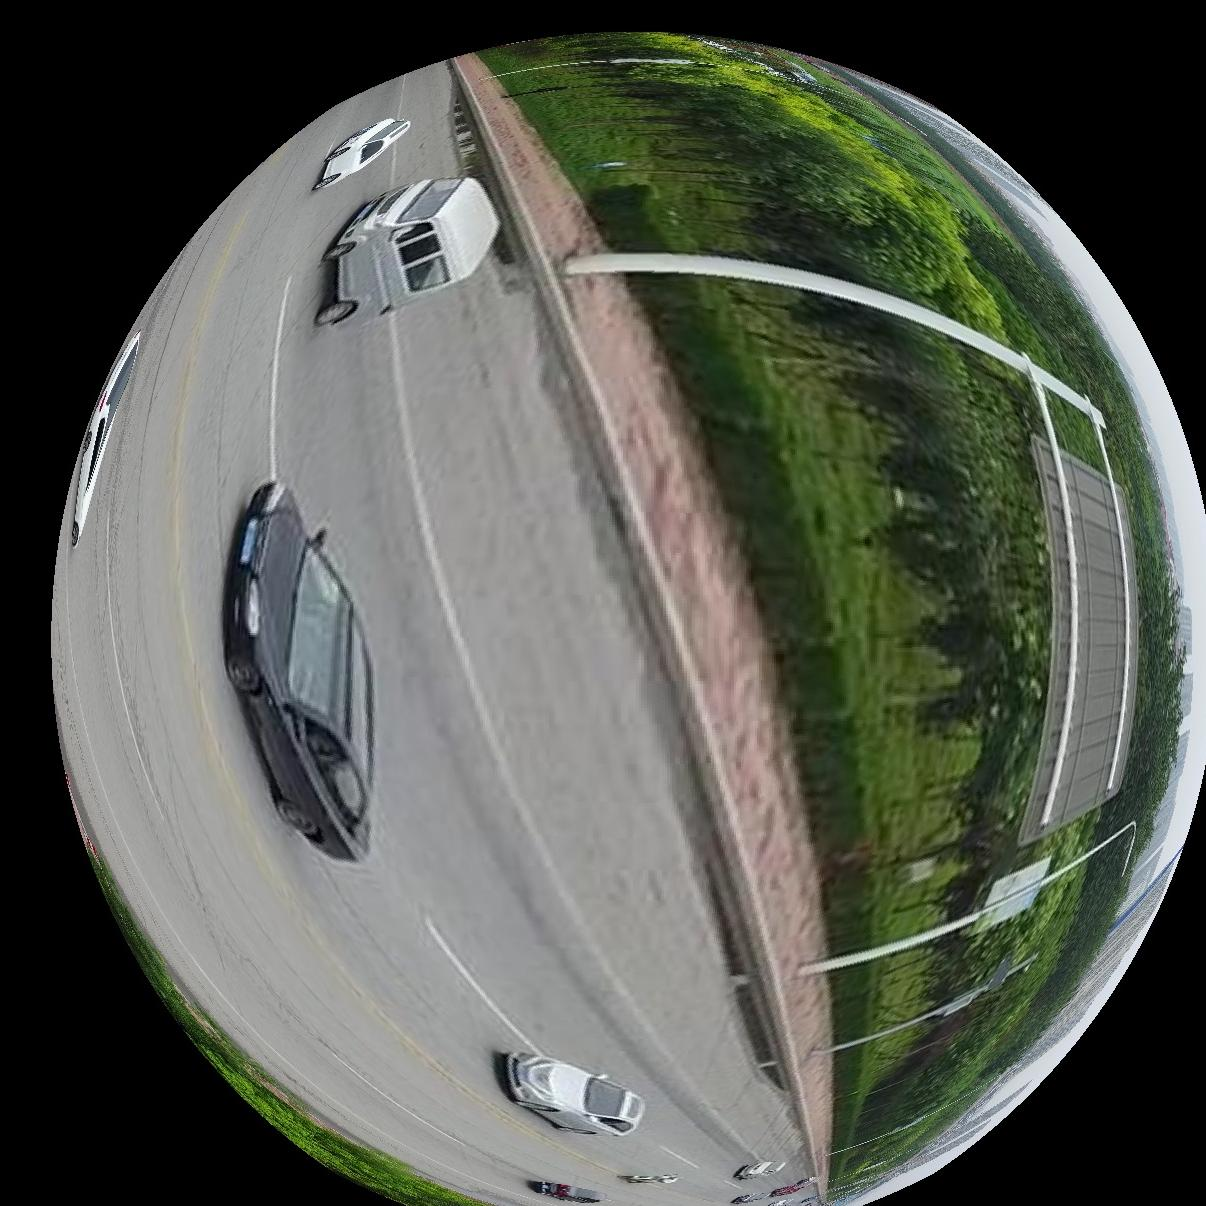cars: (224, 481, 373, 862), (312, 176, 498, 327), (502, 1054, 643, 1139), (312, 116, 408, 188)
trees: (484, 33, 1188, 1194)
